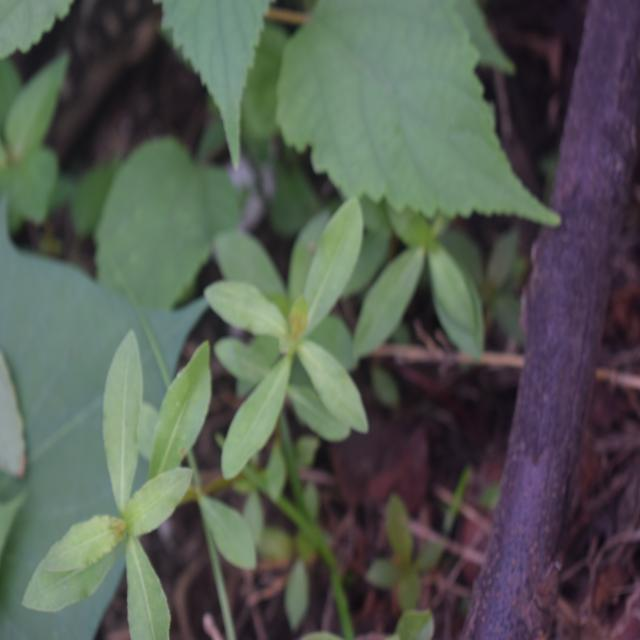Alligatorweed: (30, 333, 257, 636), (208, 182, 390, 512)
